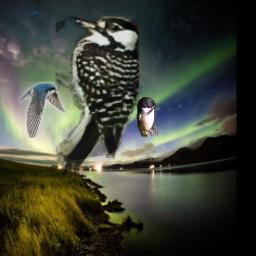Swallow: (19, 83, 67, 139), (136, 96, 160, 138)
Woodpecker: (56, 14, 139, 177)
